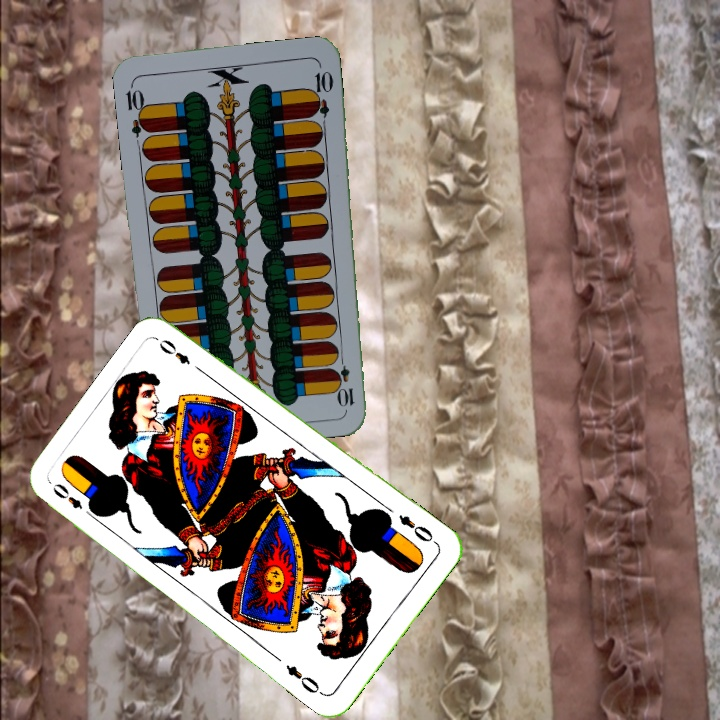E10: (122, 80, 152, 139), (334, 350, 357, 410)
EO: (48, 479, 98, 521), (394, 510, 440, 547)
